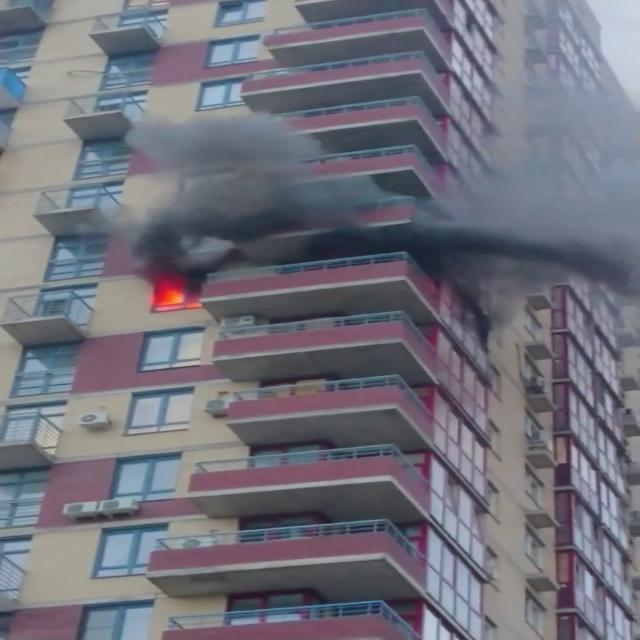Fire: (148, 280, 198, 311)
Smoke: (80, 96, 382, 276), (420, 54, 640, 286)
